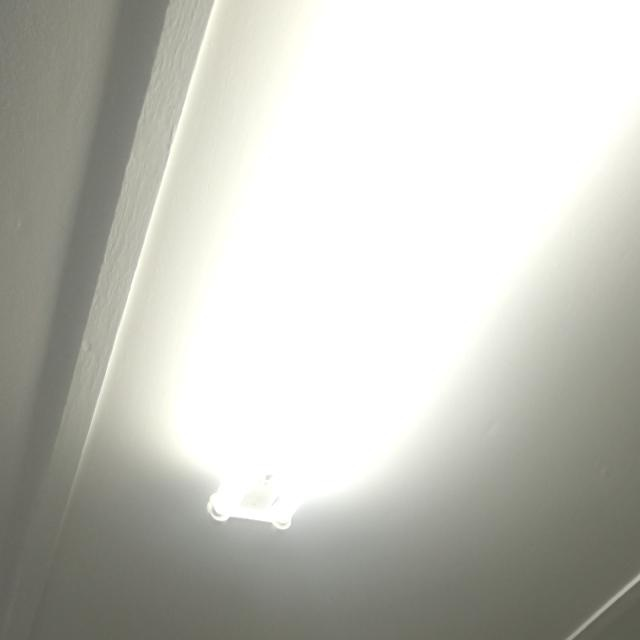fluorescent tube: (134, 0, 640, 548)
